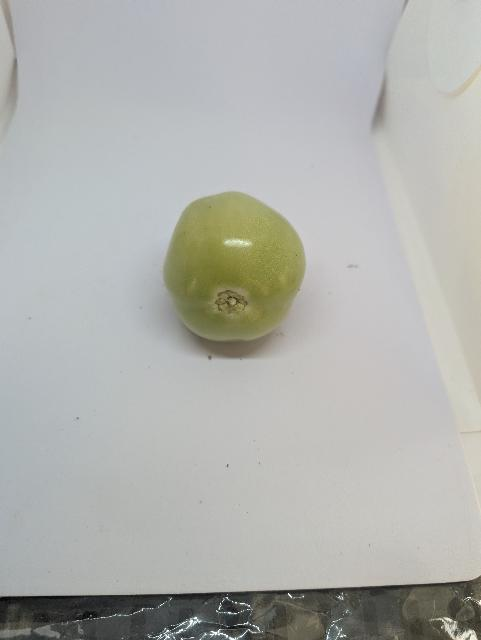green: (161, 188, 310, 344)
